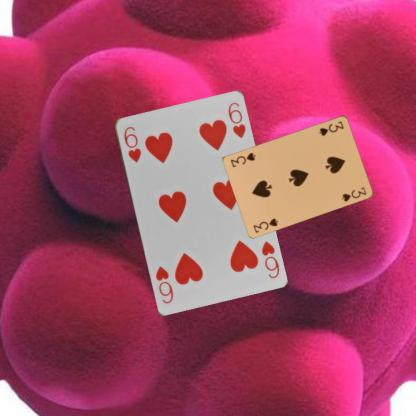3s: (250, 216, 280, 234), (317, 118, 345, 137)
6h: (258, 238, 280, 280), (121, 124, 142, 164)
